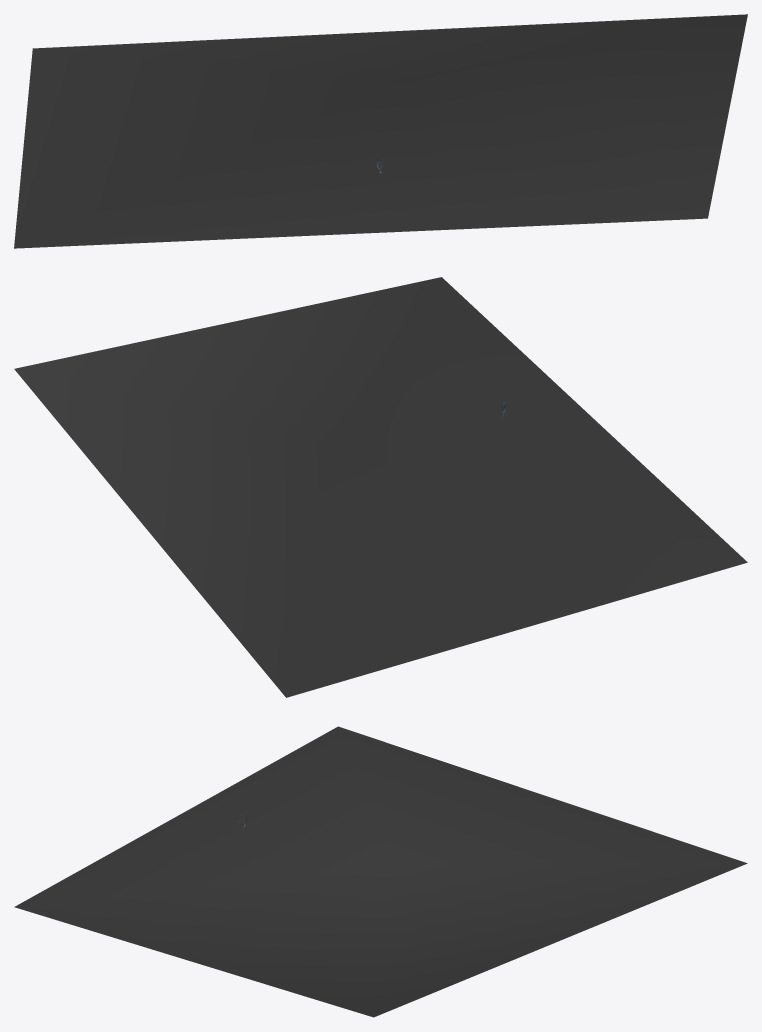
The model's file is poise-by-angela-conner.glb.
3 renders of one model, top to bottom at view 1: azimuth 30°, elevation 25°; view 2: azimuth 150°, elevation 25°; view 3: azimuth 270°, elevation 25°, orthographic. The views are drawn at different scales.
Visible parts, largest first — view 1: LOD0; view 2: LOD0; view 3: LOD0.
Part boxes in pixels (x1,y1,x2,y2): LOD0: [14, 14, 747, 248]; LOD0: [14, 277, 747, 697]; LOD0: [14, 726, 747, 1017].
Size of what is drawn, in the model's own units: 268 by 29.23 by 258.
2 materials, 2 textured.
